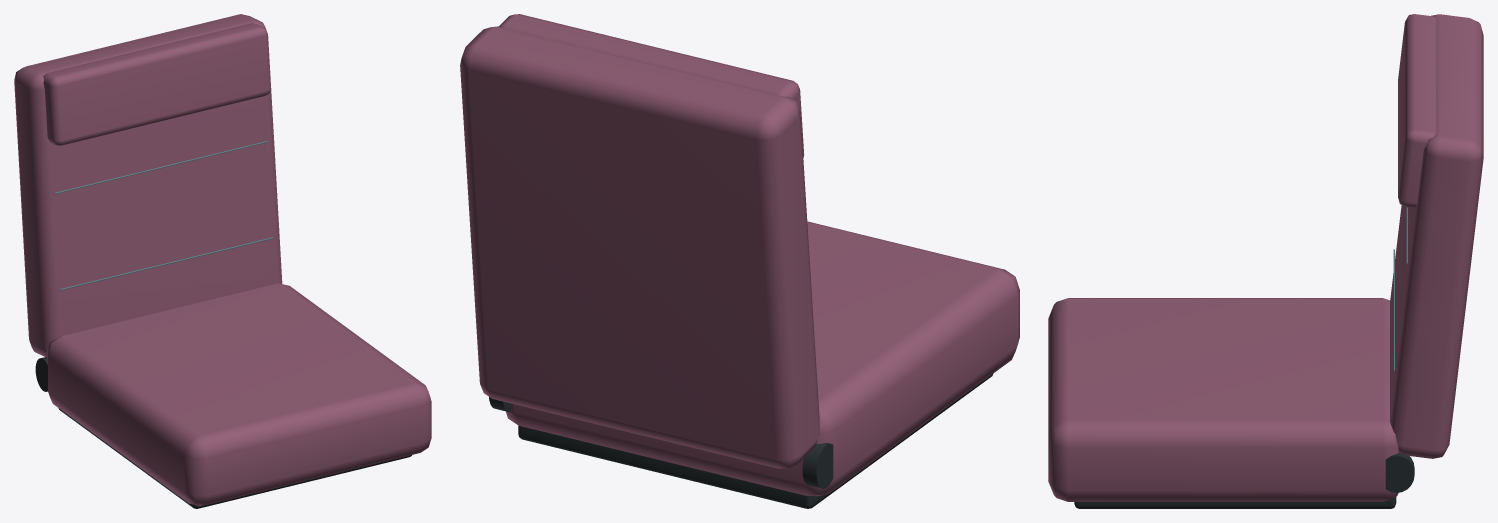
File: floor-chair.glb
3 renders of one model, left to right at view 1: azimuth 30°, elevation 25°; view 2: azimuth 150°, elevation 25°; view 3: azimuth 270°, elevation 25°, orthographic. The views are drawn at different scales.
Visible parts, largest first — view 1: floor-chair authored assembly; view 2: floor-chair authored assembly; view 3: floor-chair authored assembly.
Boxes of the visible parts, x1=… form: floor-chair authored assembly: x1=14, y1=14, x2=431, y2=508; floor-chair authored assembly: x1=460, y1=14, x2=1019, y2=508; floor-chair authored assembly: x1=1048, y1=14, x2=1483, y2=508.
Size of the model in its own units: 0.68 by 0.86 by 0.9.
